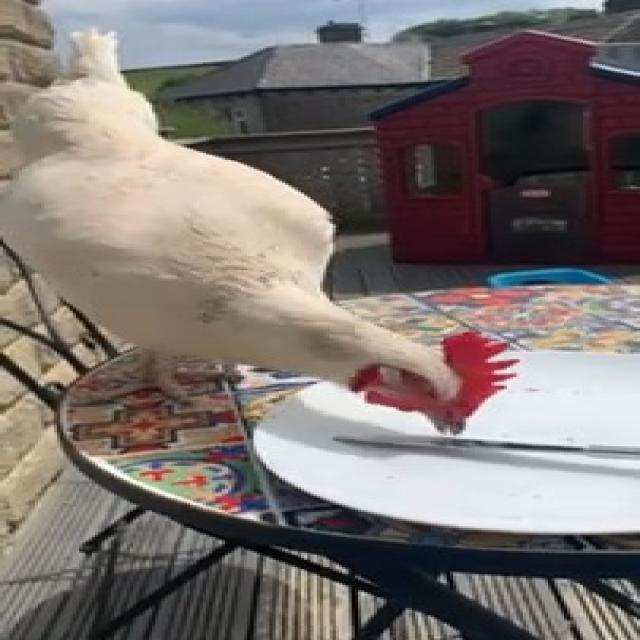pecking: (0, 34, 520, 452)
